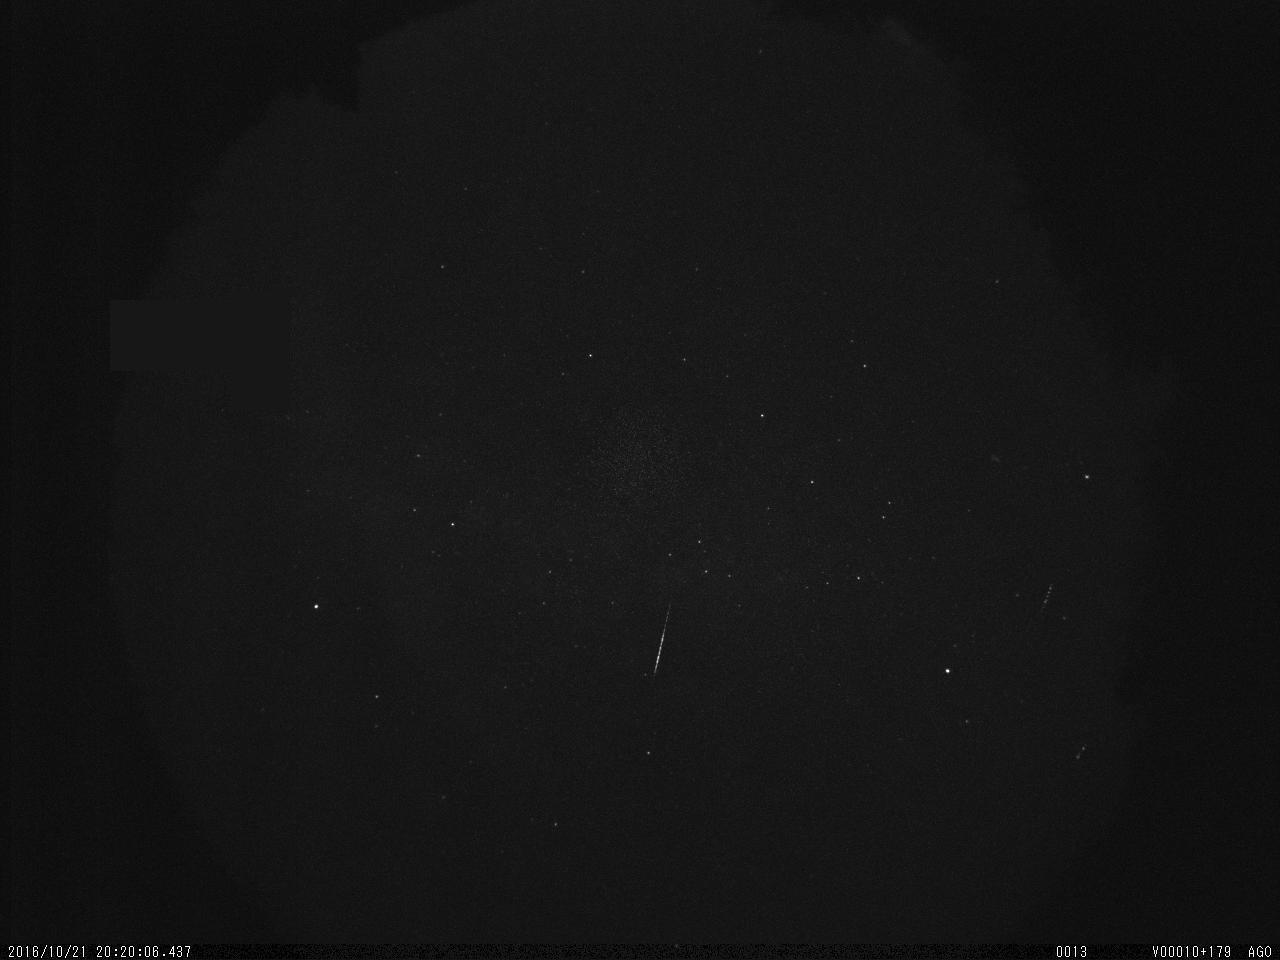meteor: (645, 603, 687, 683)
